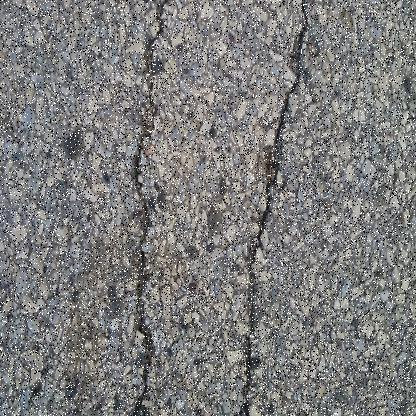Cracks: (238, 0, 312, 416), (127, 0, 174, 416)
